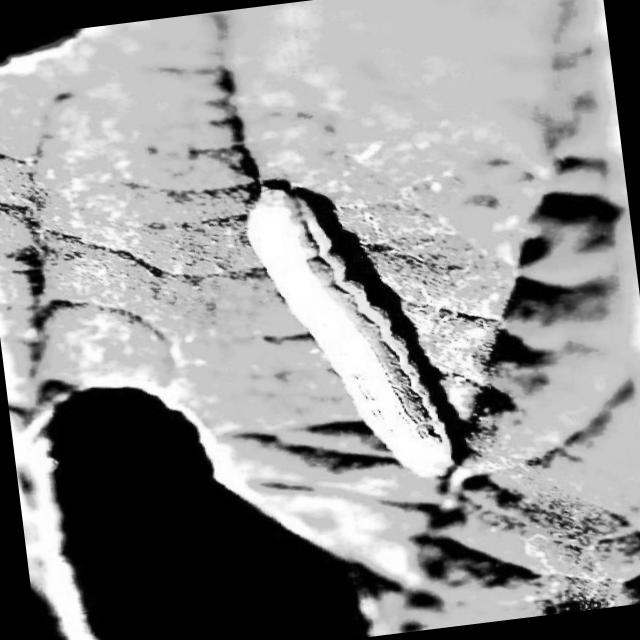Armyworm: (238, 139, 508, 509)
